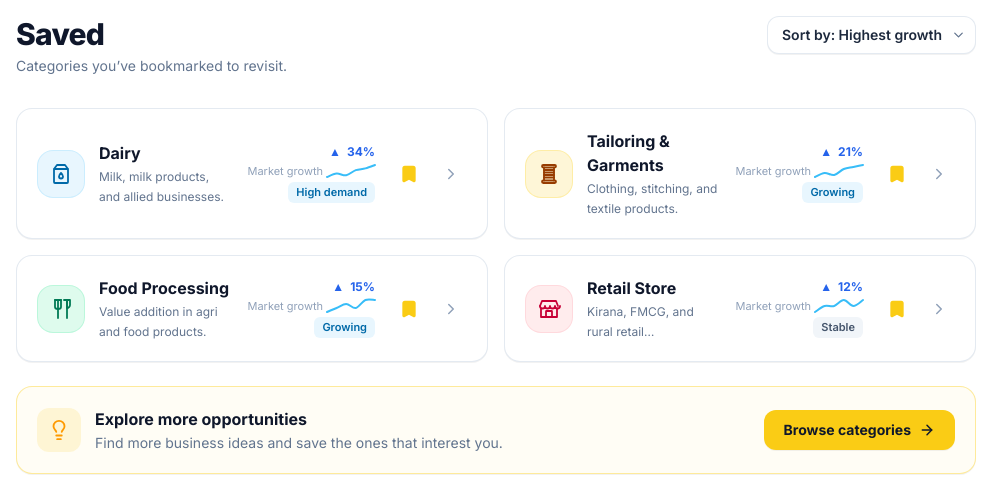
Test: SavedView — Filled State › removes item when bookmark toggle is clicked
The image size is (993, 492).
Expected: the heading "Dairy" is shown, [99,143,141,163]
Click the button named "Remove Dairy from saved" at x=409, y=174, box [391,156,427,192]
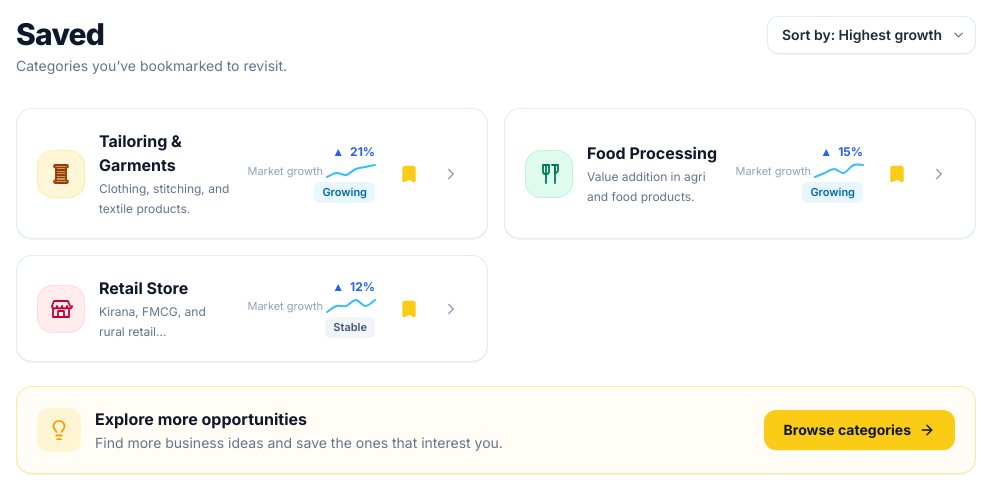
Result: the link "Dairy" is gone
